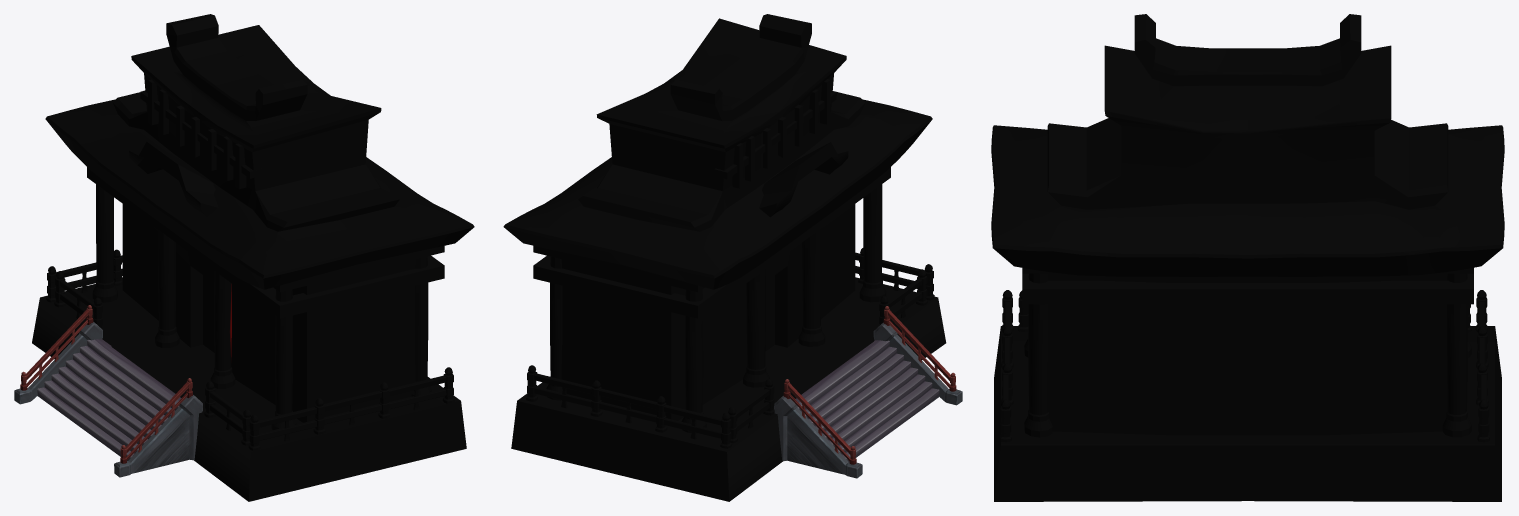
Rendered from Temple_Building.fbx.
The picture shows the model from 3 angles, left to right: view 1: azimuth 30°, elevation 25°; view 2: azimuth 150°, elevation 25°; view 3: azimuth 270°, elevation 25°; orthographic projection. The views are drawn at different scales.
Visible parts, largest first — view 1: Temple_Building; view 2: Temple_Building; view 3: Temple_Building.
Part boxes in pixels (x1,y1,x2,y2): Temple_Building: (14, 14, 474, 501); Temple_Building: (503, 14, 962, 501); Temple_Building: (991, 14, 1504, 501).
Size of the model in its own units: 1382 by 1538 by 1761.
